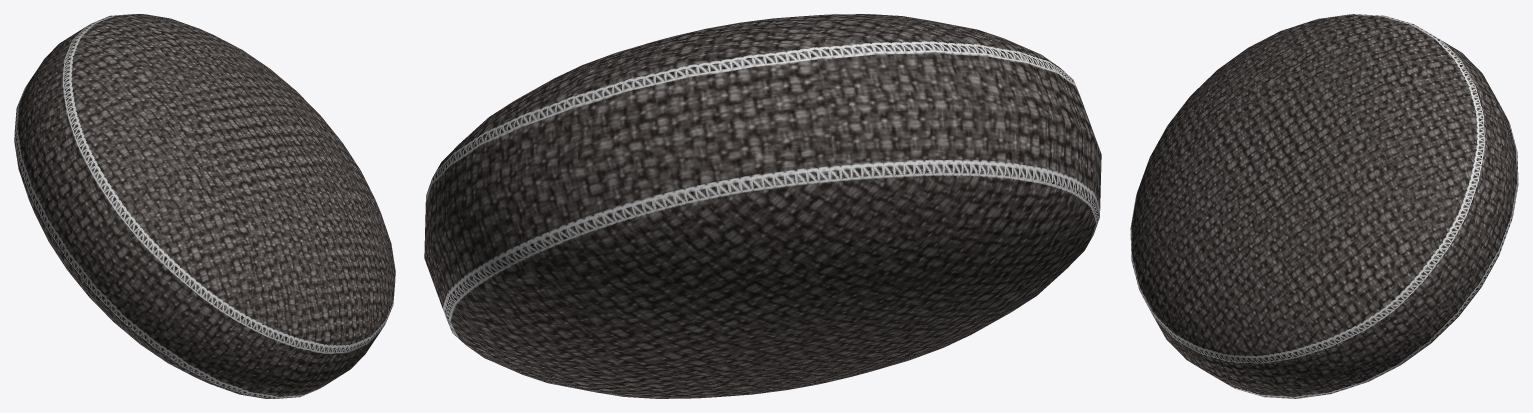
File: cushion 1.fbx
3 views of the same model, side by side, from view 1: azimuth 30°, elevation 25°; view 2: azimuth 150°, elevation 25°; view 3: azimuth 270°, elevation 25° (orthographic). The views are drawn at different scales.
Visible parts, largest first — view 1: cushion 1; view 2: cushion 1; view 3: cushion 1.
Part boxes in pixels (x1,y1,x2,y2): cushion 1: (14, 14, 395, 398); cushion 1: (424, 14, 1101, 398); cushion 1: (1130, 14, 1518, 398).
Bounding box in the file's own units: 0.4349 × 0.438 × 0.3631.
